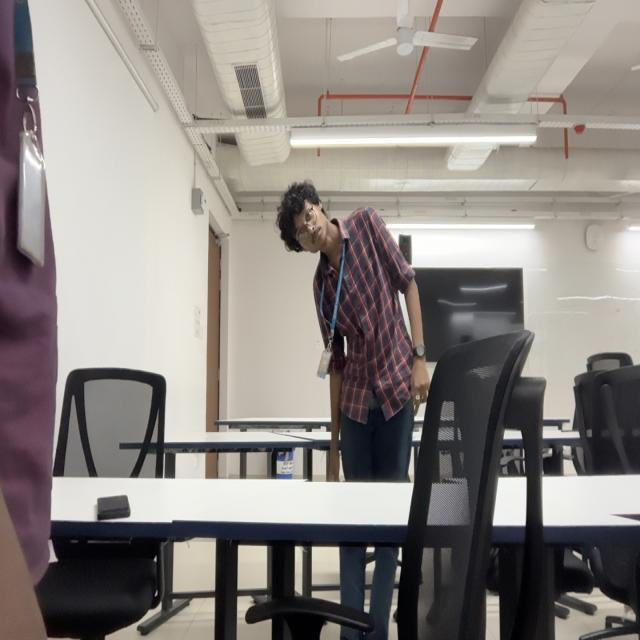darshan: (276, 185, 331, 258)
